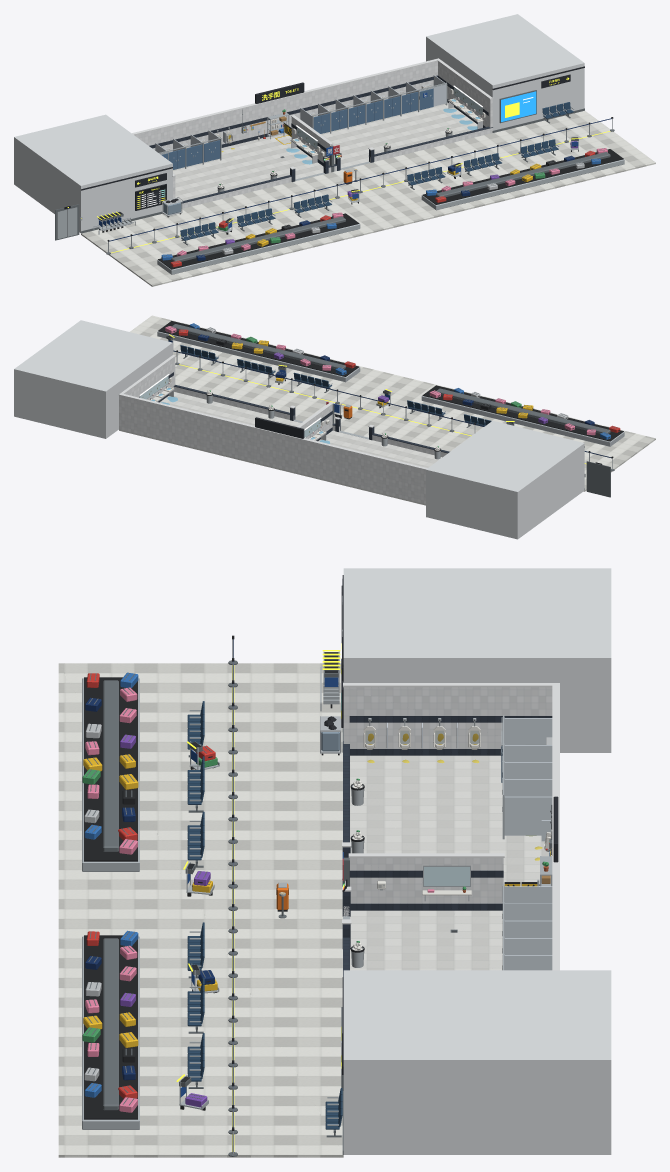
Rendered from level_airport.glb.
3 renders of one model, top to bottom at view 1: azimuth 30°, elevation 25°; view 2: azimuth 150°, elevation 25°; view 3: azimuth 270°, elevation 25°, orthographic. The views are drawn at different scales.
Parts seen in each view (by area): view 1: neighbours, street, walls, floor, stall_partitions, bank_dressing, decor, signage, supply; view 2: neighbours, street, walls, floor, bank_dressing, signage, decor; view 3: neighbours, street, floor, walls, stall_partitions, decor.
Part boxes in pixels (<box>): neighbours: <box>14,14,624,274</box>; street: <box>81,110,655,286</box>; walls: <box>132,58,493,208</box>; floor: <box>173,100,477,200</box>; stall_partitions: <box>155,75,447,168</box>; bank_dressing: <box>290,85,485,163</box>; decor: <box>162,121,452,217</box>; signage: <box>255,82,339,172</box>; supply: <box>267,109,289,139</box>; neighbours: <box>14,320,624,539</box>; street: <box>130,315,655,491</box>; walls: <box>119,355,449,504</box>; floor: <box>119,392,441,505</box>; bank_dressing: <box>139,374,326,440</box>; signage: <box>255,402,339,438</box>; decor: <box>206,392,440,459</box>; neighbours: <box>82,568,611,1154</box>; street: <box>58,635,343,1157</box>; floor: <box>350,755,551,970</box>; walls: <box>342,682,559,976</box>; stall_partitions: <box>501,715,552,970</box>; decor: <box>276,716,552,967</box>.
Size of the model in its own units: 42.22 by 3.7 by 19.
Materials: 79 (4 with a texture image).
